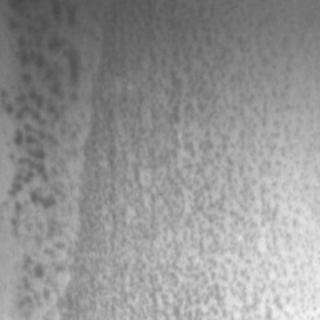pitted_surface: (75, 2, 315, 314), (0, 0, 80, 292)
